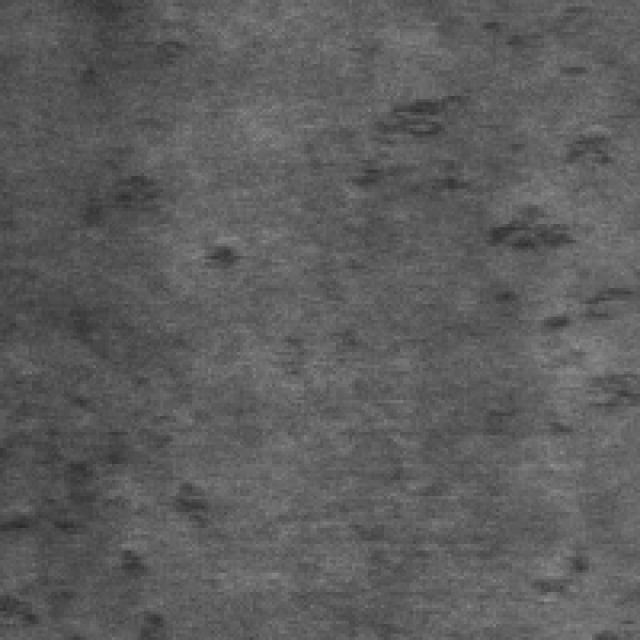rolled-in_scale: (477, 80, 637, 406), (0, 413, 211, 624), (339, 77, 474, 224)
